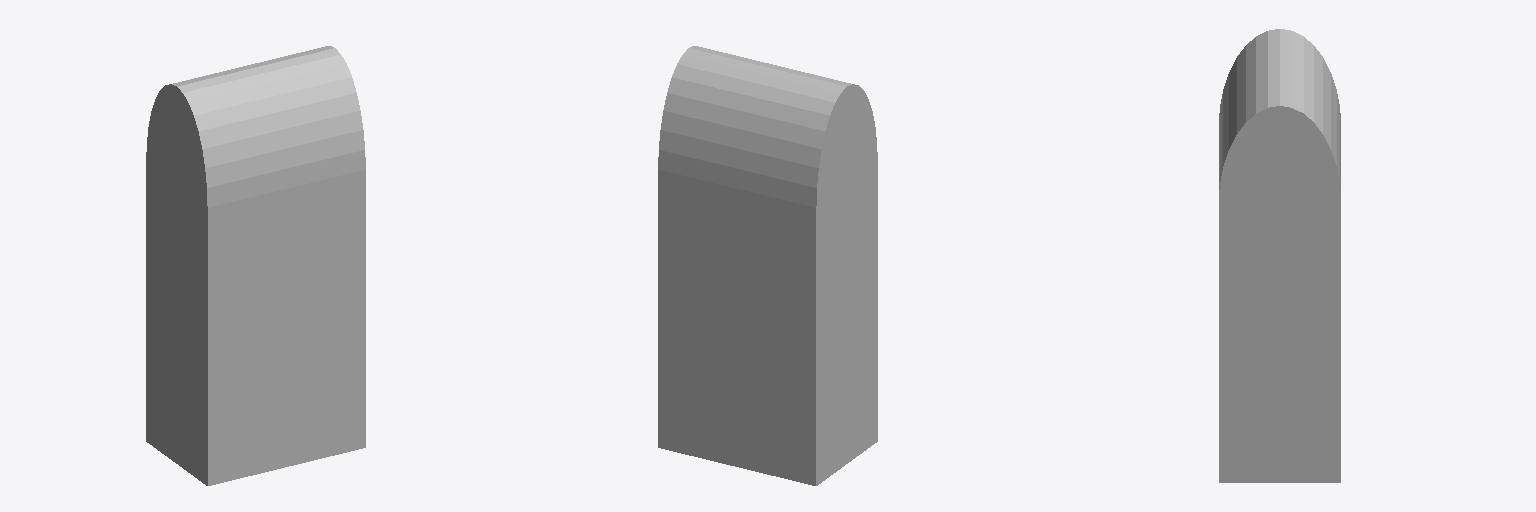
Rendered from body_l_dist_pin2vround2_collision.obj.
3 views of the same model, side by side, from view 1: azimuth 30°, elevation 25°; view 2: azimuth 150°, elevation 25°; view 3: azimuth 270°, elevation 25° (orthographic).
Visible parts, largest first — view 1: body_l_dist_pin2vround2_collision_Cube.566; view 2: body_l_dist_pin2vround2_collision_Cube.566; view 3: body_l_dist_pin2vround2_collision_Cube.566.
Part boxes in pixels (x1,y1,x2,y2): body_l_dist_pin2vround2_collision_Cube.566: (146,46,365,485); body_l_dist_pin2vround2_collision_Cube.566: (658,46,877,485); body_l_dist_pin2vround2_collision_Cube.566: (1219,29,1340,482).
Bounding box in the file's own units: 0.032 × 0.0729 × 0.0215.